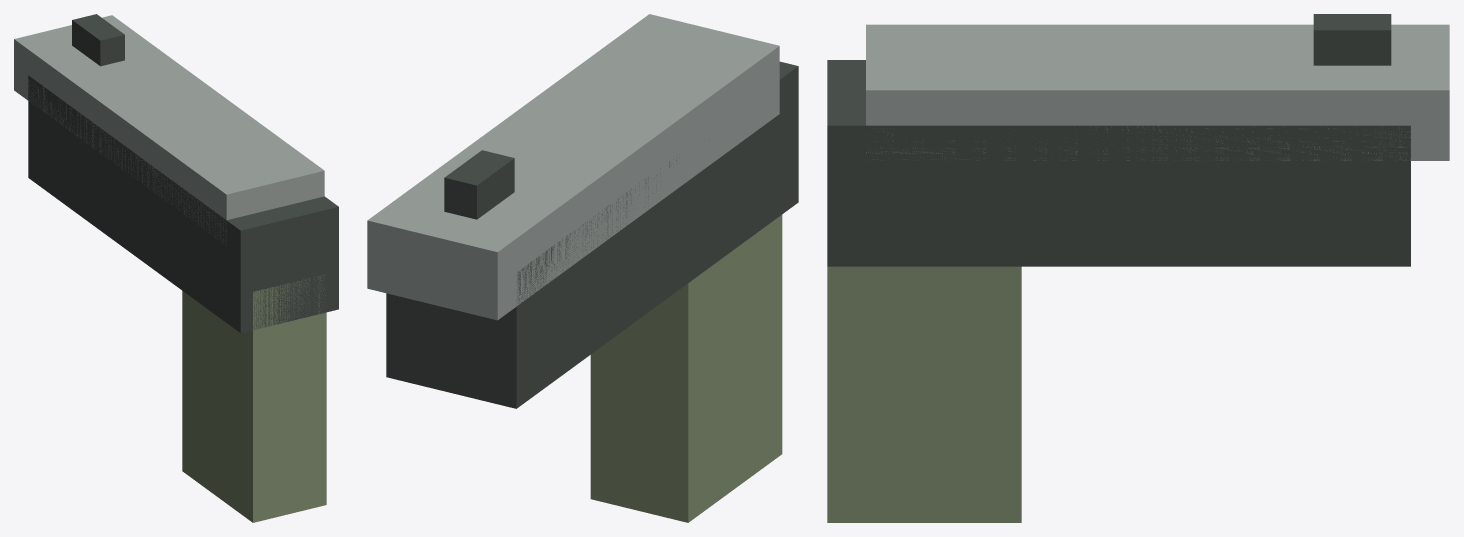
File: pistol.gltf
The picture shows the model from 3 angles, left to right: view 1: azimuth 30°, elevation 25°; view 2: azimuth 150°, elevation 25°; view 3: azimuth 270°, elevation 25°; orthographic projection. The views are drawn at different scales.
Bounding box in the file's own units: 4 × 13.5 × 16.
